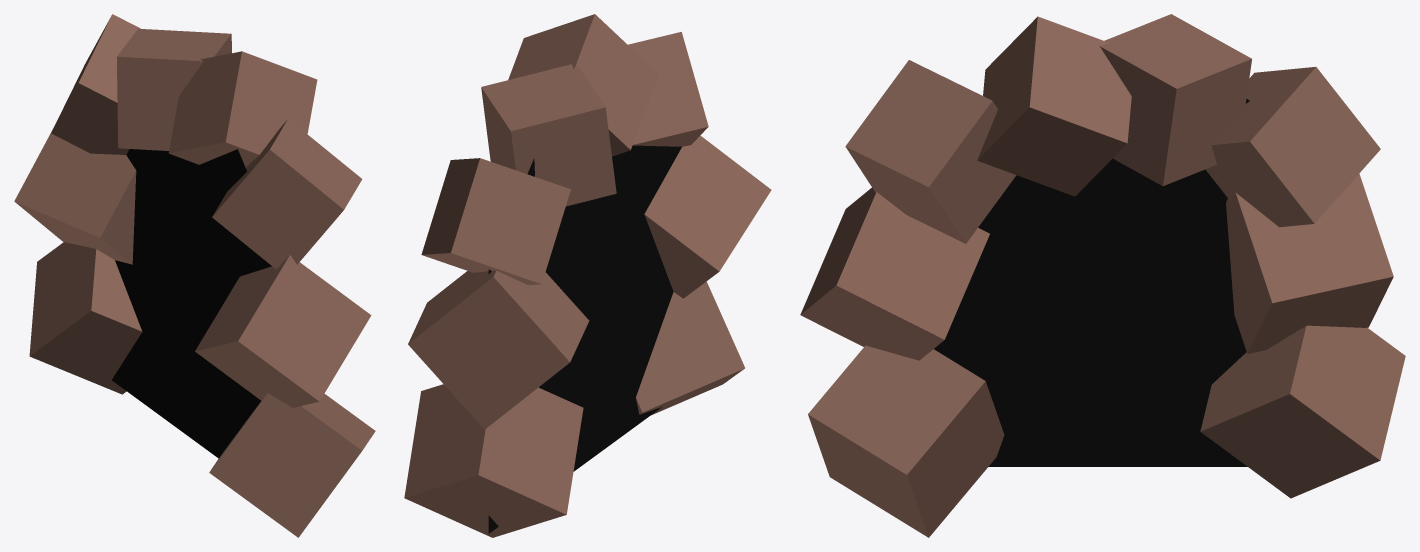
Rendered from cave.glb.
3 renders of one model, left to right at view 1: azimuth 30°, elevation 25°; view 2: azimuth 150°, elevation 25°; view 3: azimuth 270°, elevation 25°, orthographic. The views are drawn at different scales.
Visible parts, largest first — view 1: Cube; view 2: Cube; view 3: Cube.
Boxes of the visible parts, x1=… form: Cube: x1=14, y1=14, x2=375, y2=537; Cube: x1=404, y1=14, x2=771, y2=537; Cube: x1=800, y1=14, x2=1405, y2=537.
Bounding box in the file's own units: 1.1 × 2.57 × 2.77.
